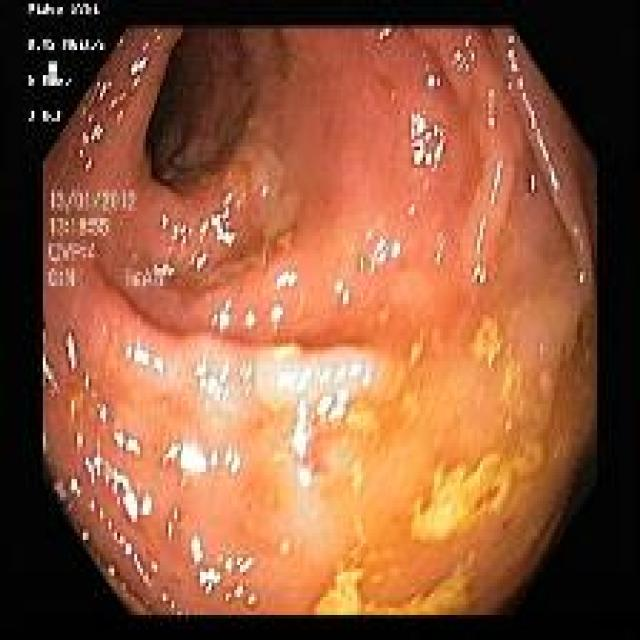ulcerative-colitis: (44, 28, 596, 614)
